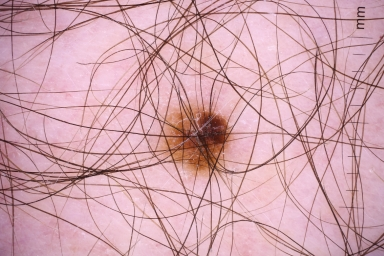nevus: (146, 98, 261, 179)
